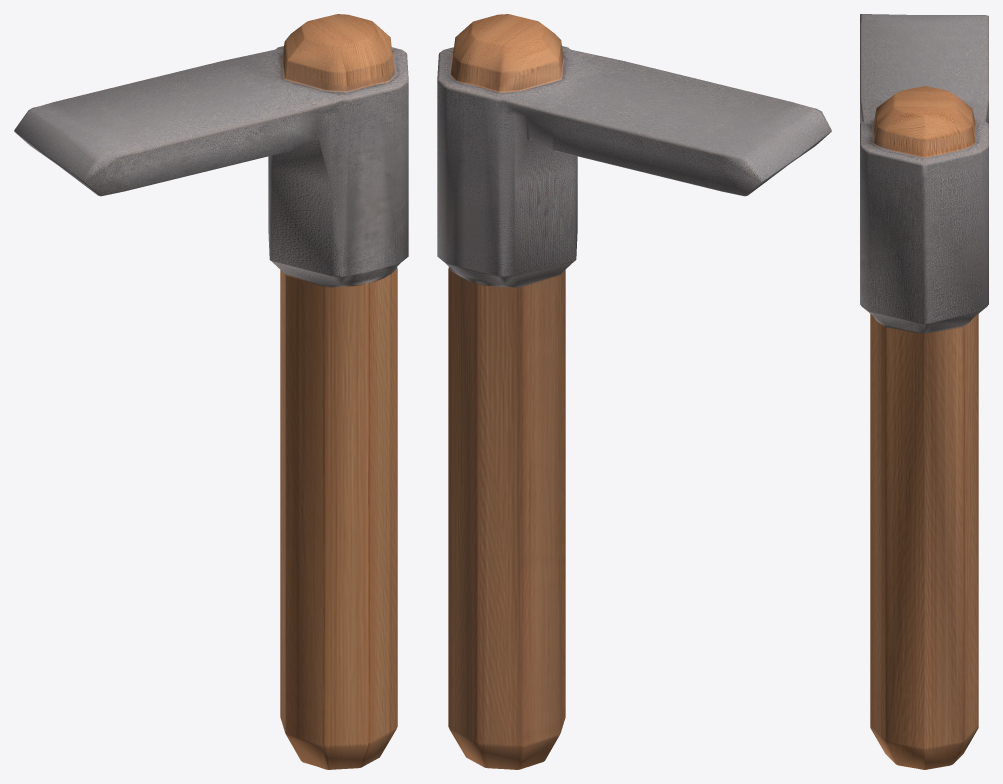
File: Hoe_Stone.fbx
3 views of the same model, side by side, from view 1: azimuth 30°, elevation 25°; view 2: azimuth 150°, elevation 25°; view 3: azimuth 270°, elevation 25° (orthographic). The views are drawn at different scales.
Parts seen in each view (by area): view 1: Mesh_0; view 2: Mesh_0; view 3: Mesh_0.
Boxes of the visible parts, x1,y1,x2,y2 form: Mesh_0: (14, 14, 408, 769); Mesh_0: (437, 14, 831, 769); Mesh_0: (860, 14, 988, 769).
Size of the model in its own units: 99.02 by 191 by 34.05.
Materials: 1 (1 with a texture image).
